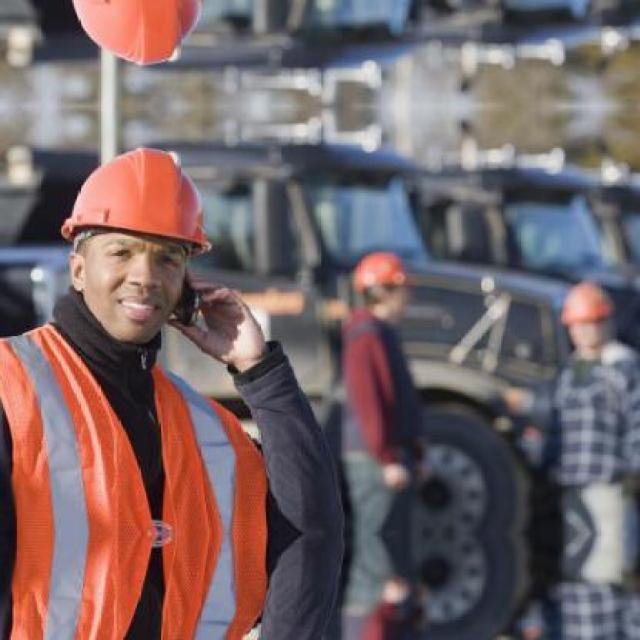helmet: (42, 135, 228, 351), (42, 0, 229, 79), (347, 247, 419, 322), (554, 278, 618, 350)
